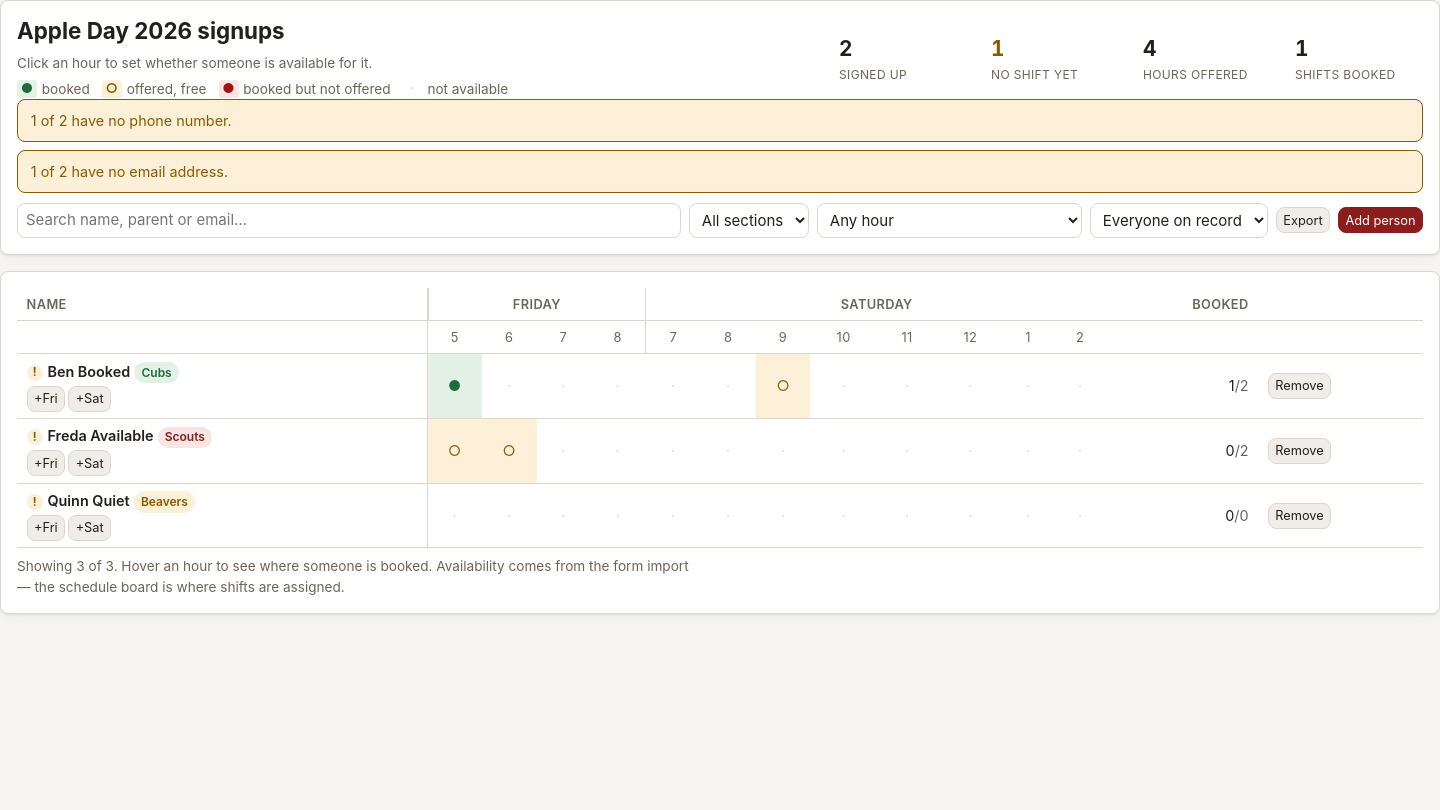
Scenario: the roster › can narrow to just those who signed up
Select "Signed up" in the dropdown named "Who to show": x=1179, y=220 [1090,203,1268,238]
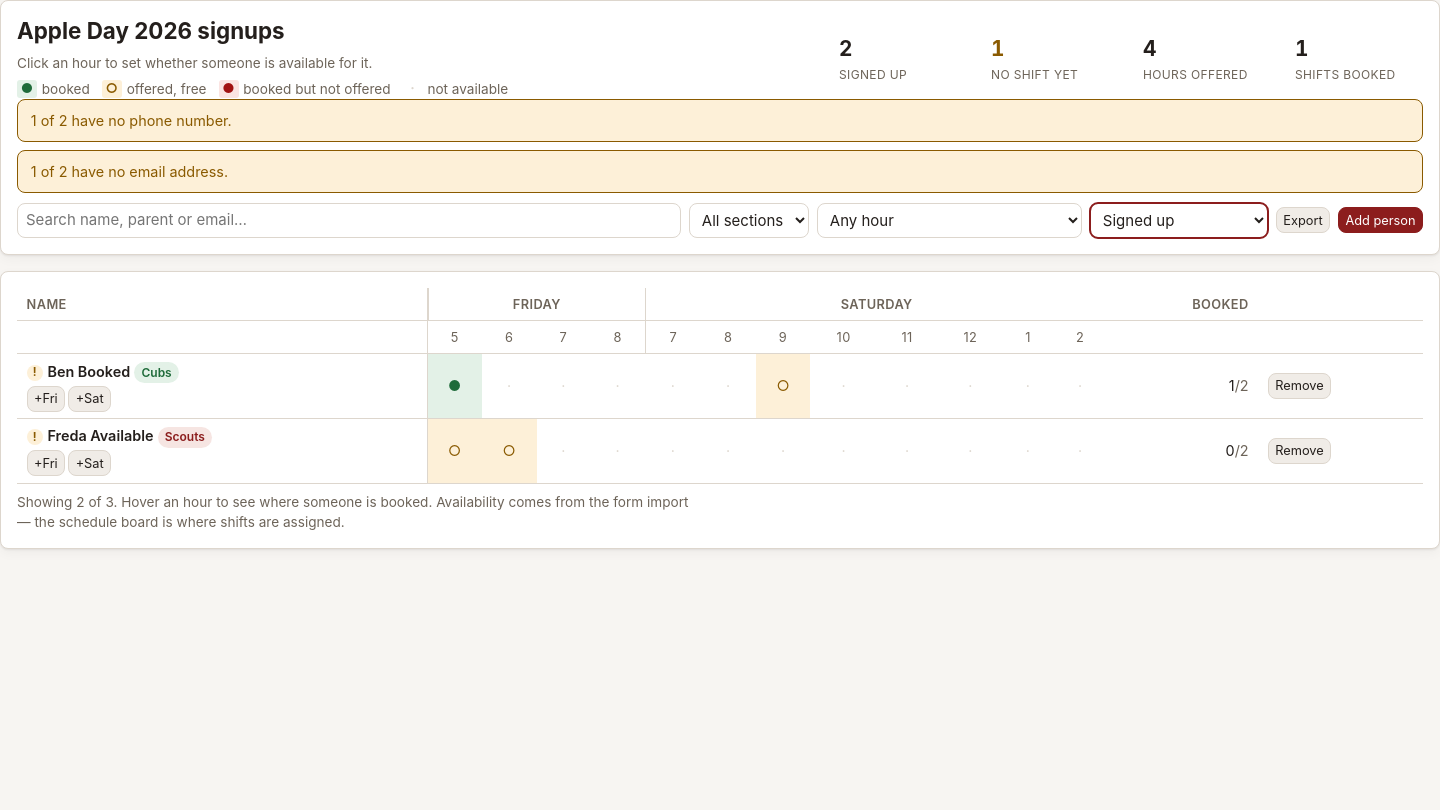
Expected: the link "Freda Available" is shown, [47,427,153,444]
Expected: the link "Quinn Quiet" is gone
